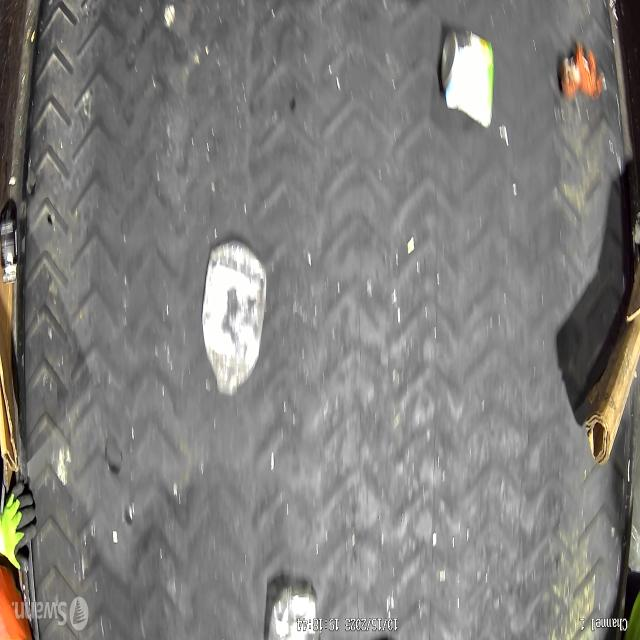can: (441, 28, 495, 130)
plastic_bottle: (200, 240, 270, 403)
